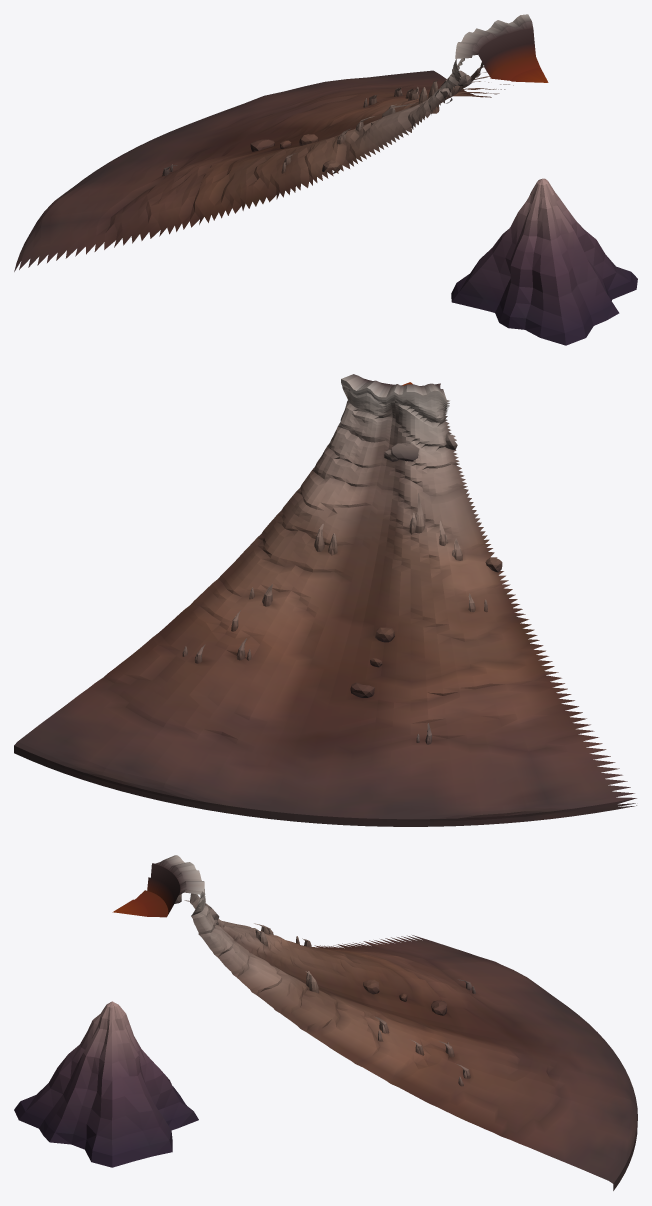
File: volcano-s1-Cy5xIinp.glb
3 views of the same model, one above another, from view 1: azimuth 30°, elevation 25°; view 2: azimuth 150°, elevation 25°; view 3: azimuth 270°, elevation 25° (orthographic). The views are drawn at different scales.
Parts seen in each view (by area): view 1: sc_landmark_1, sc_peak_0; view 2: sc_landmark_1; view 3: sc_landmark_1, sc_peak_0.
Boxes of the visible parts, x1,y1,x2,y2 form: sc_landmark_1: [14, 14, 548, 271]; sc_peak_0: [451, 178, 637, 345]; sc_landmark_1: [14, 374, 636, 826]; sc_landmark_1: [112, 855, 637, 1190]; sc_peak_0: [14, 1001, 198, 1167].
Bounding box in the file's own units: 489 × 223 × 519.
